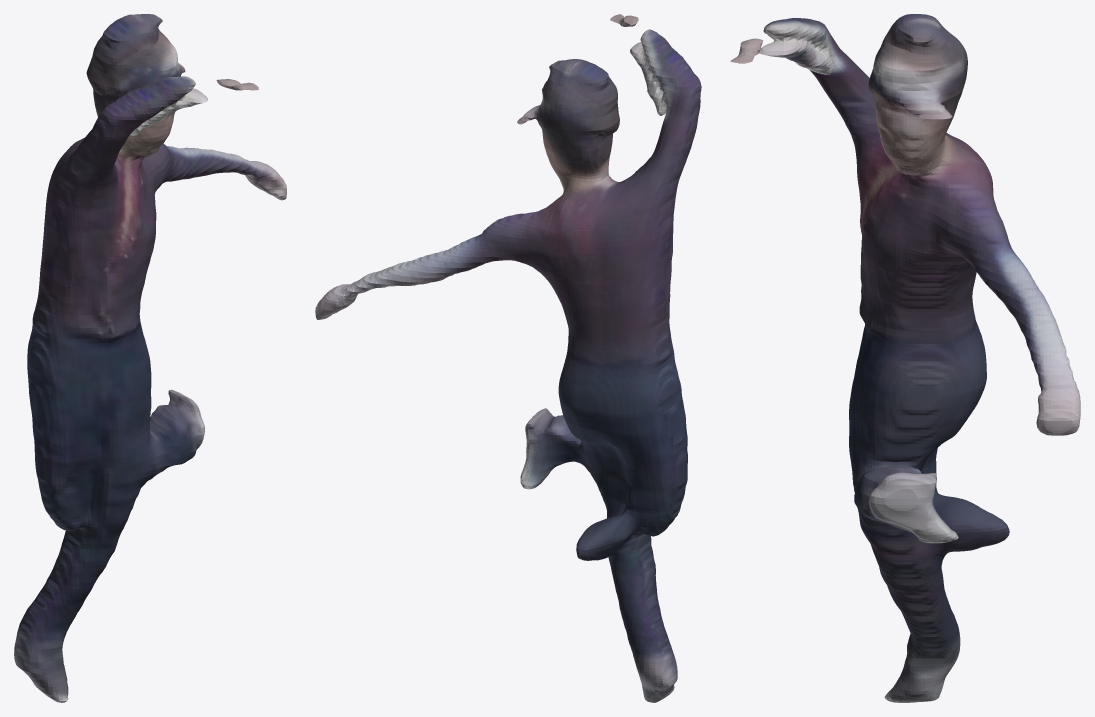
File: 0061_tex.glb
3 renders of one model, left to right at view 1: azimuth 30°, elevation 25°; view 2: azimuth 150°, elevation 25°; view 3: azimuth 270°, elevation 25°, orthographic. The views are drawn at different scales.
Parts seen in each view (by area): view 1: 0061_tex.obj; view 2: 0061_tex.obj; view 3: 0061_tex.obj.
Part boxes in pixels (x1=…): 0061_tex.obj: x1=14, y1=14, x2=286, y2=702; 0061_tex.obj: x1=315, y1=14, x2=701, y2=702; 0061_tex.obj: x1=730, y1=14, x2=1080, y2=702.
Bounding box in the file's own units: 0.4557 × 0.896 × 0.3902.
